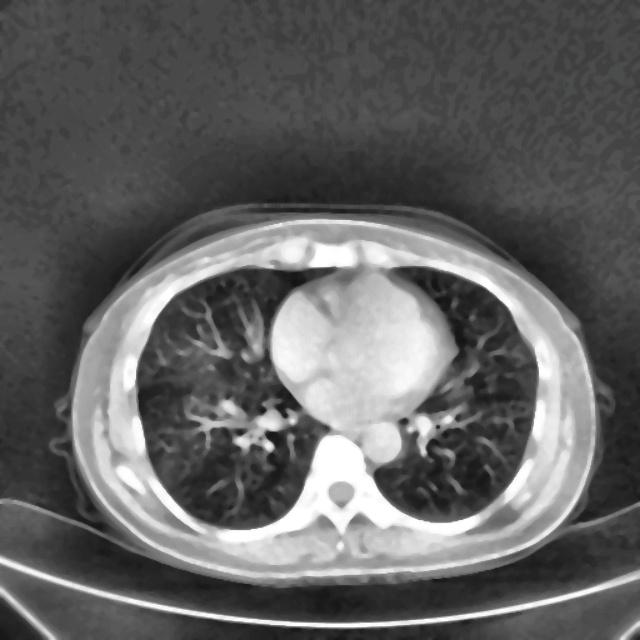covid: (62, 201, 608, 586)
